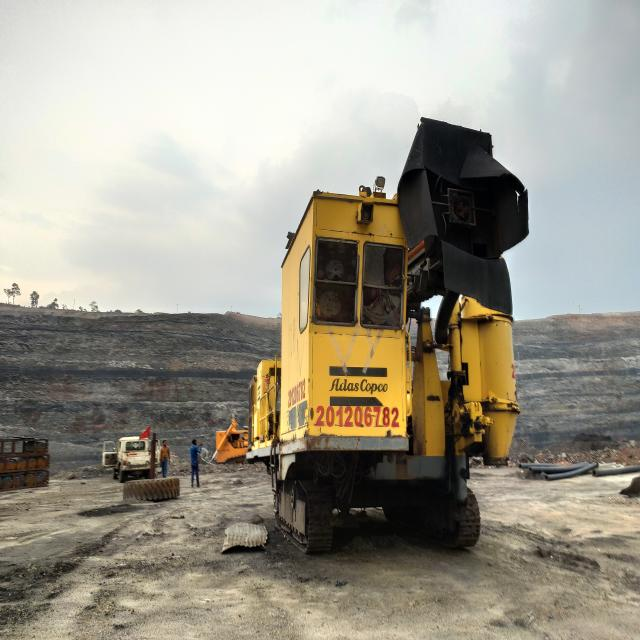buldozerpayloadergrader: (212, 419, 250, 466)
light_vehicle: (102, 427, 151, 483)
